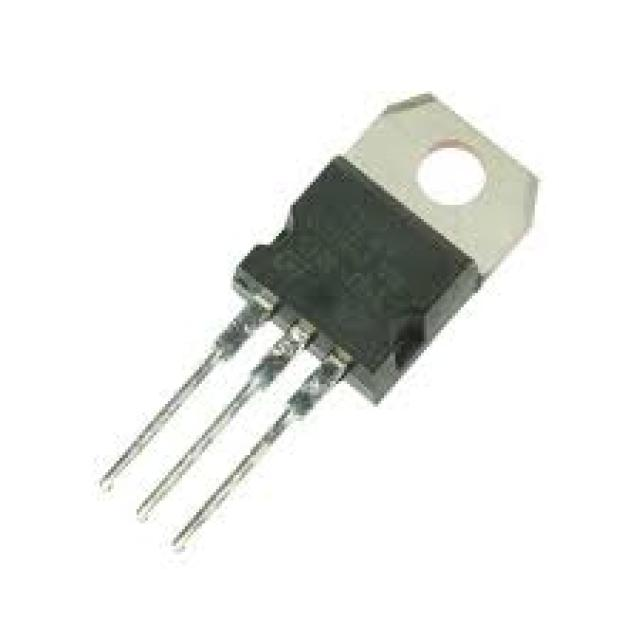Transistor: (122, 91, 541, 553)
